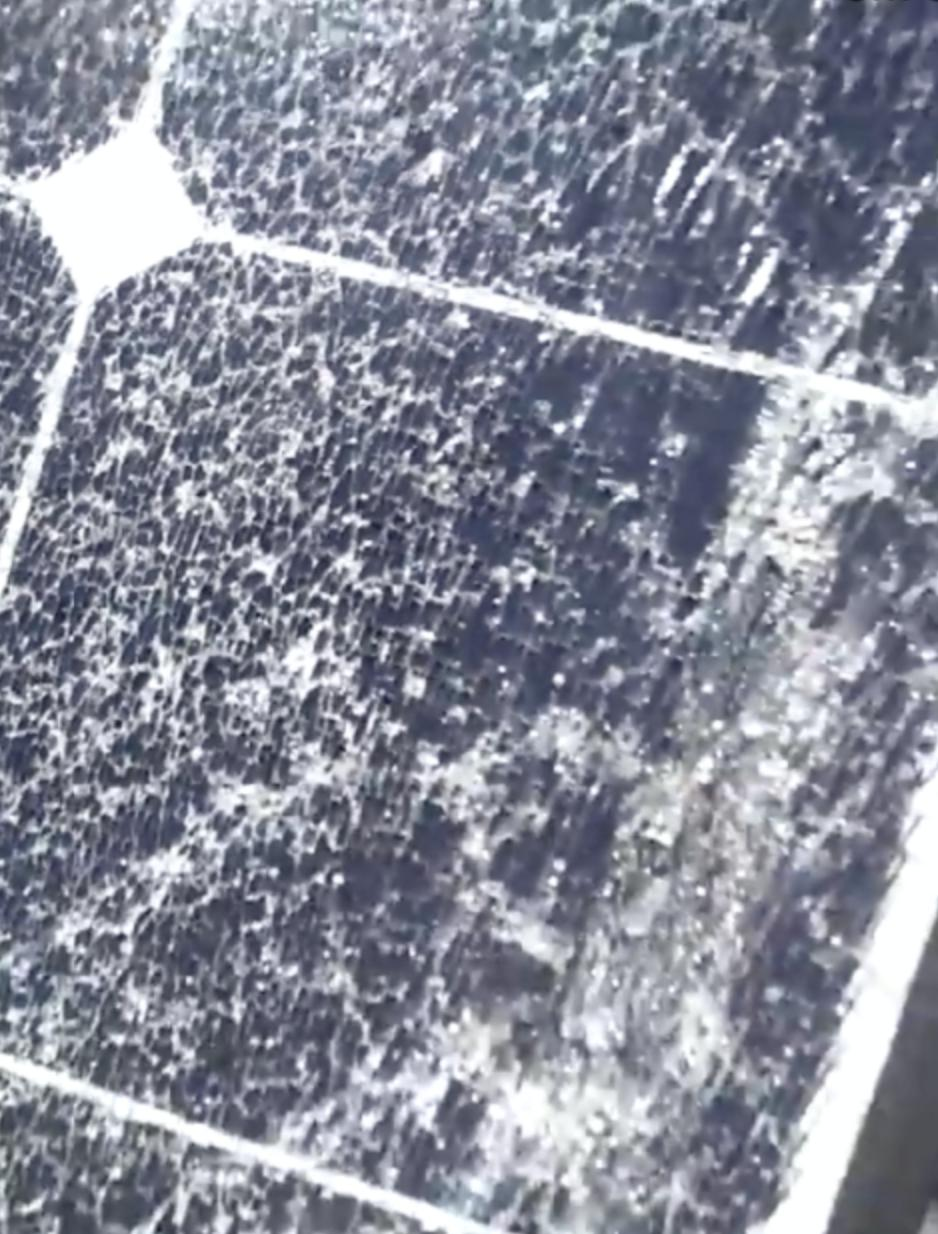Crack: (3, 6, 938, 1208)
